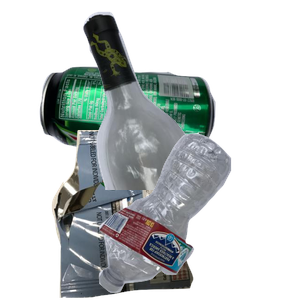glass: (81, 10, 300, 190)
metal: (37, 64, 245, 214)
plastic: (96, 131, 300, 300)
trash: (49, 130, 235, 300)
